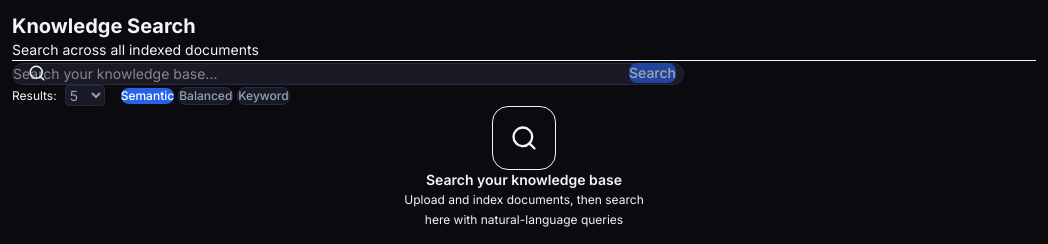
Test case: SearchPage › shows result metadata
Type "test" into the field with placeholder "Search your knowledge base..." at (348,74), box [12,63,684,85]
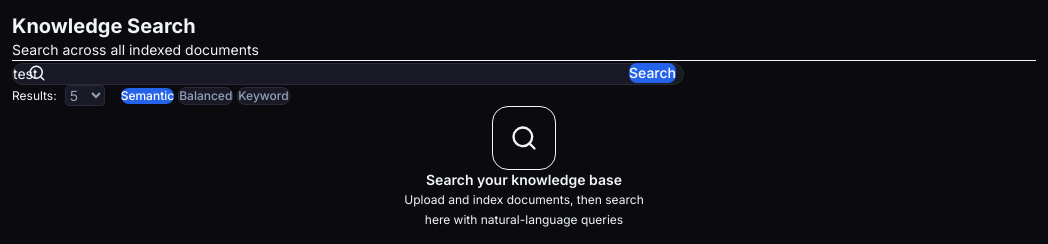
Click the button "Search" at (652,73), box [629,63,676,83]
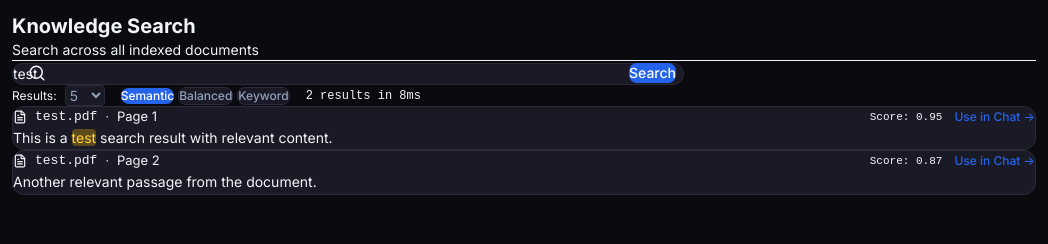
Result: the text "test.pdf" in the row of "0.95" is shown at [35,109,97,124]
Result: the text "Page 1" is shown at [117,107,157,126]
Result: the text "Score: 0.95" is shown at [870,108,942,125]
